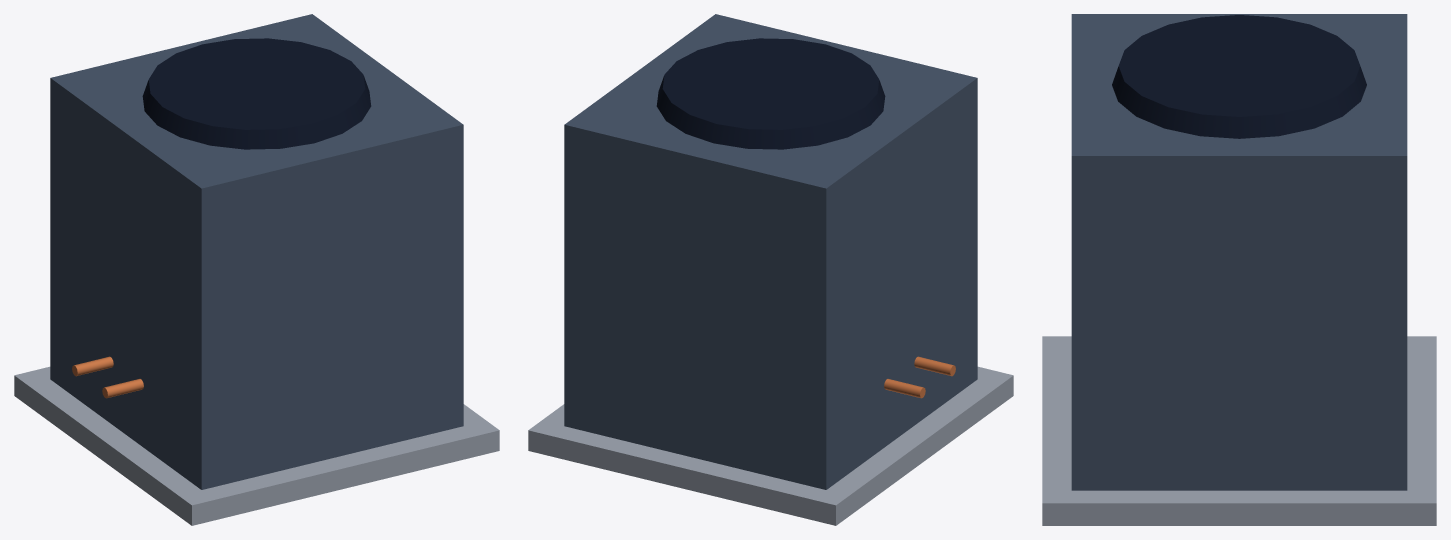
Rendered from equip-heat-pump-condenser.glb.
3 renders of one model, left to right at view 1: azimuth 30°, elevation 25°; view 2: azimuth 150°, elevation 25°; view 3: azimuth 270°, elevation 25°, orthographic. The views are drawn at different scales.
Visible parts, largest first — view 1: hvac-equipment-heat-pump-condenser; view 2: hvac-equipment-heat-pump-condenser; view 3: hvac-equipment-heat-pump-condenser.
Boxes of the visible parts, box(x1,y1,x2,y2) form: hvac-equipment-heat-pump-condenser: box(14, 14, 499, 525); hvac-equipment-heat-pump-condenser: box(528, 14, 1013, 525); hvac-equipment-heat-pump-condenser: box(1042, 14, 1436, 525).
Size of the model in its own units: 0.98 by 0.99 by 0.94.
